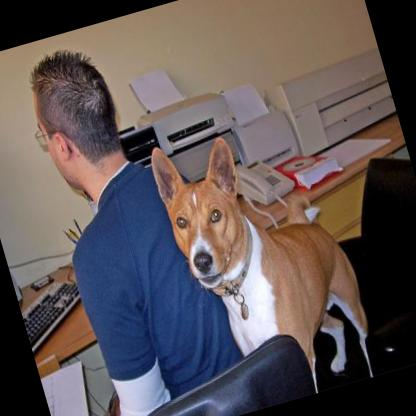basenji: (144, 101, 383, 416)
